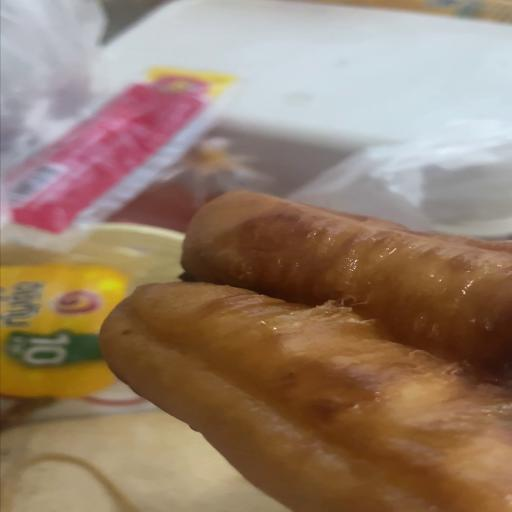street_burnt_defect: (100, 191, 512, 512)
